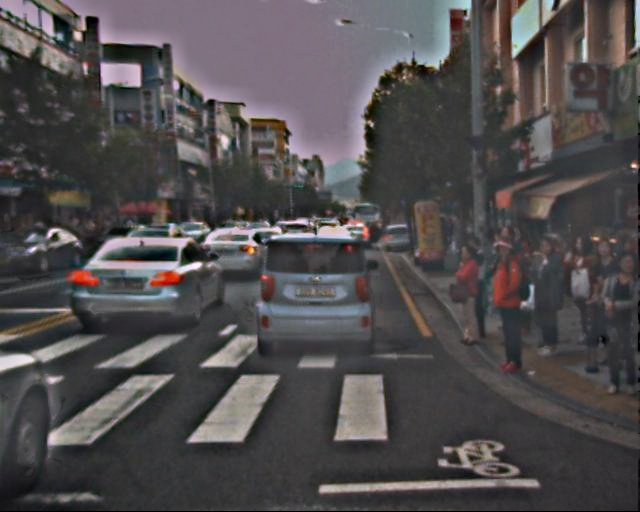person: (483, 242, 535, 369), (582, 240, 634, 366), (595, 253, 640, 394), (522, 239, 568, 352), (496, 225, 539, 331), (561, 238, 603, 341), (482, 227, 523, 327), (458, 237, 498, 334), (449, 249, 488, 345), (440, 215, 464, 249)
